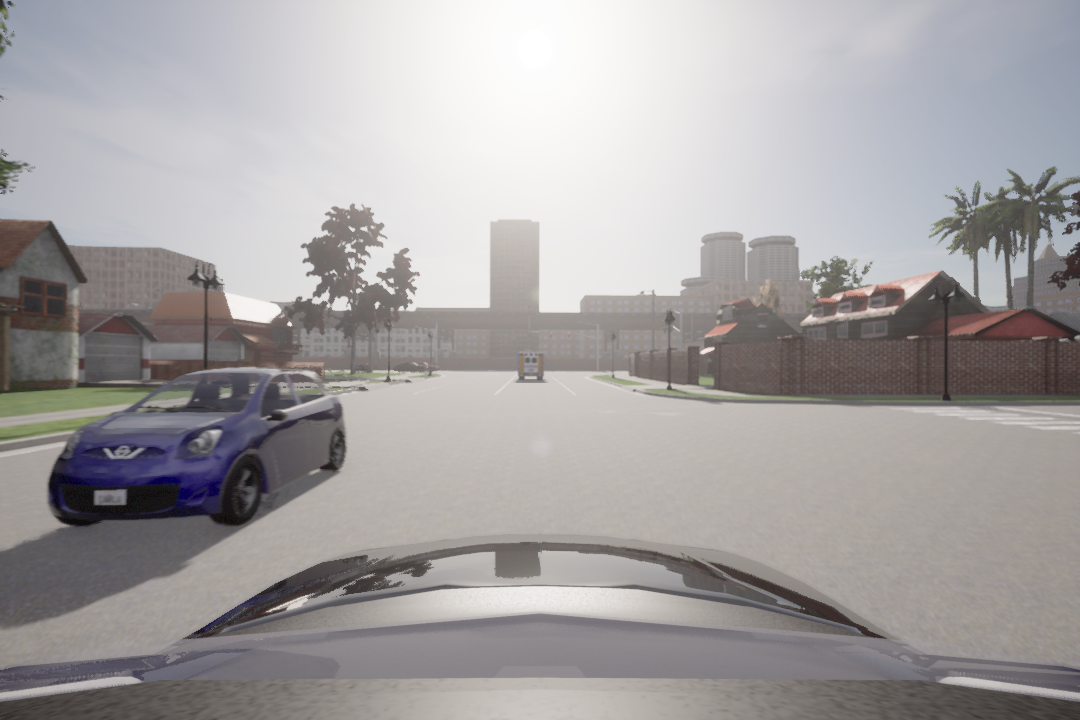walkside: (897, 401, 1080, 444)
